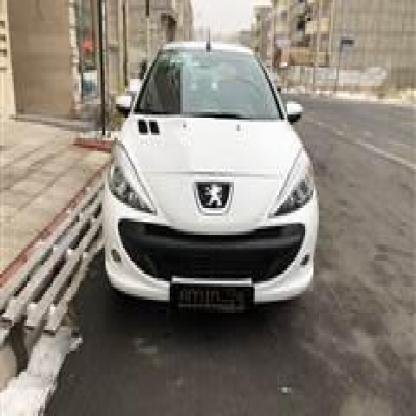Car: (93, 44, 315, 320)
